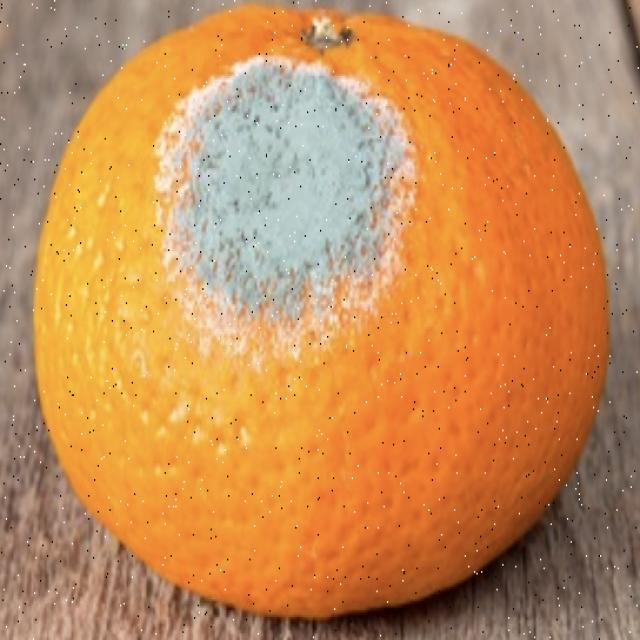Organik: (29, 0, 618, 628)
